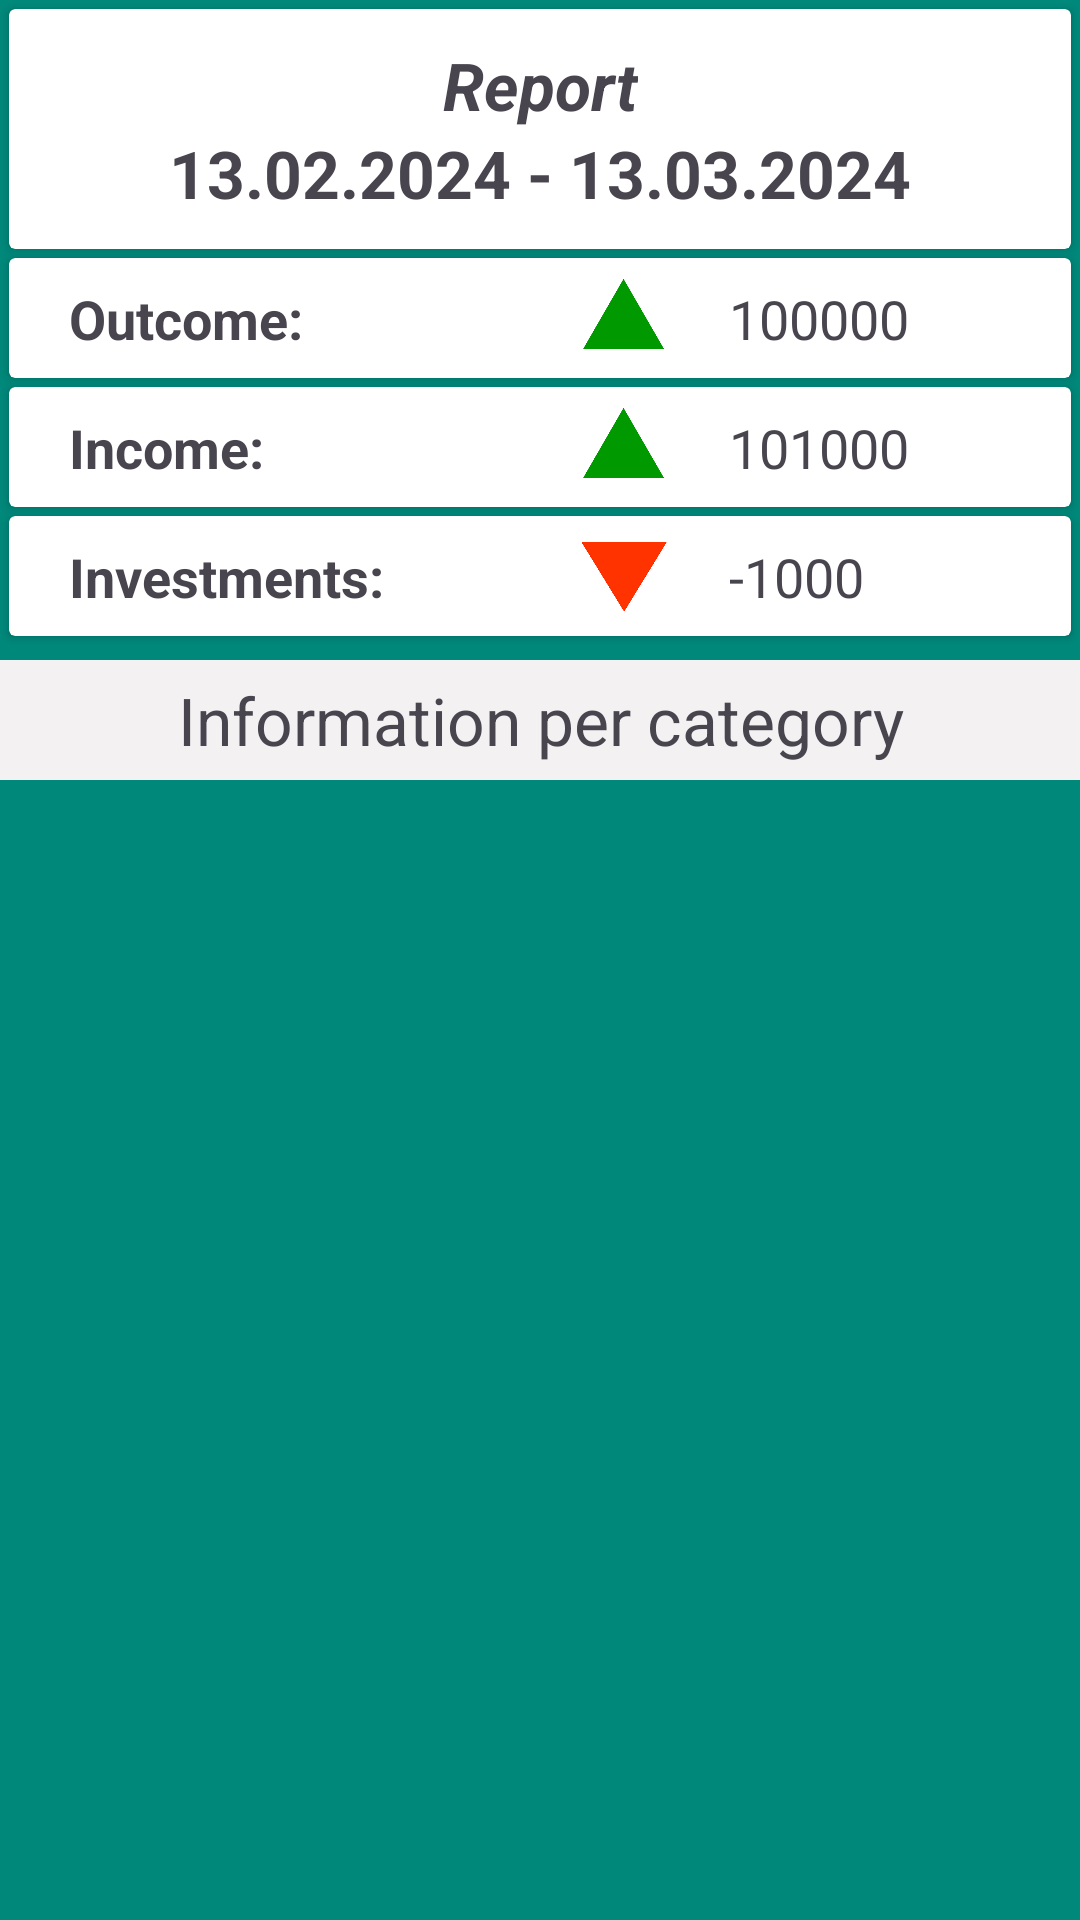

Screen size 1080×1920. Icon name, then its center in pixels as (x,y):
triangle: (623,314), (623,443), (624,576)
